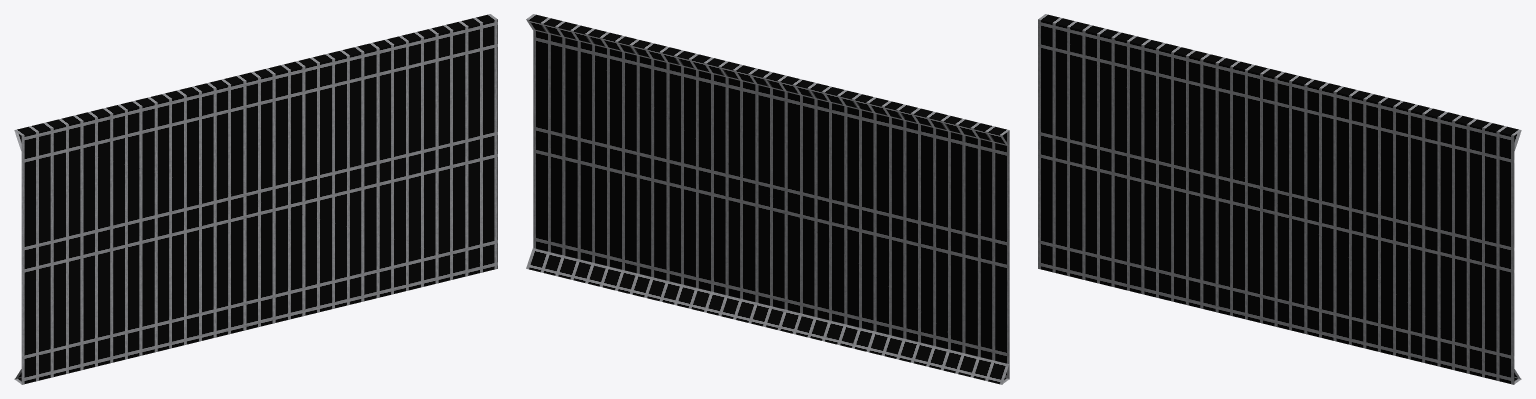
The model's file is fence-mesh-grey-1s-noPost-cbj_LOD00.gltf.
The picture shows the model from 3 angles, left to right: view 1: azimuth 30°, elevation 25°; view 2: azimuth 150°, elevation 25°; view 3: azimuth 330°, elevation 25°; orthographic projection.
Parts seen in each view (by area): view 1: post; view 2: post; view 3: post.
Part boxes in pixels (box(x1,y1,x2,y2)): post: box(14, 14, 497, 384); post: box(526, 14, 1009, 384); post: box(1038, 14, 1521, 384).
Size of the model in its own units: 2.4 by 1.2 by 0.065.
